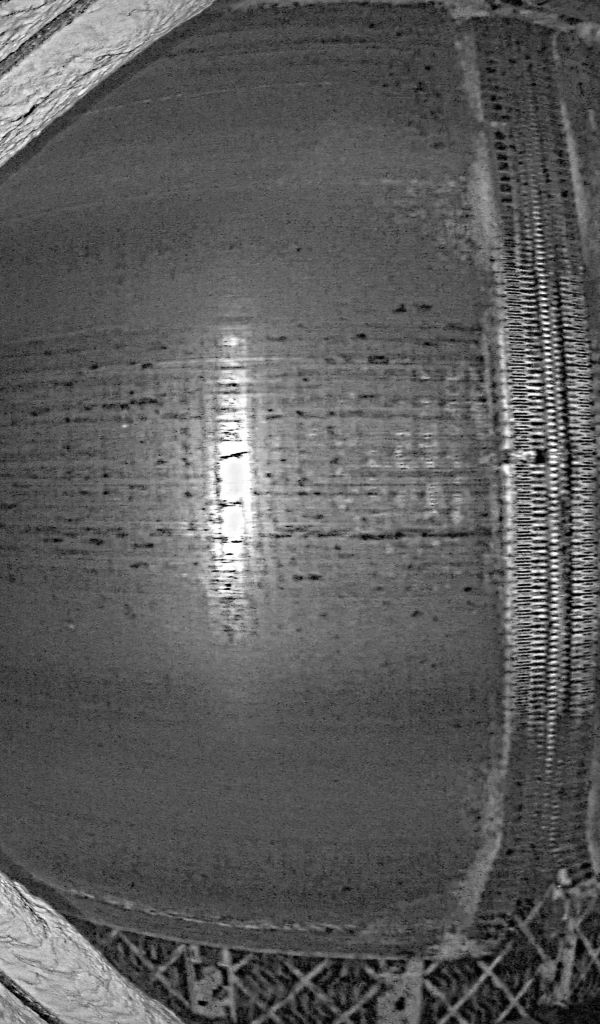damage: (458, 845, 598, 946)
splice: (447, 14, 600, 948)
